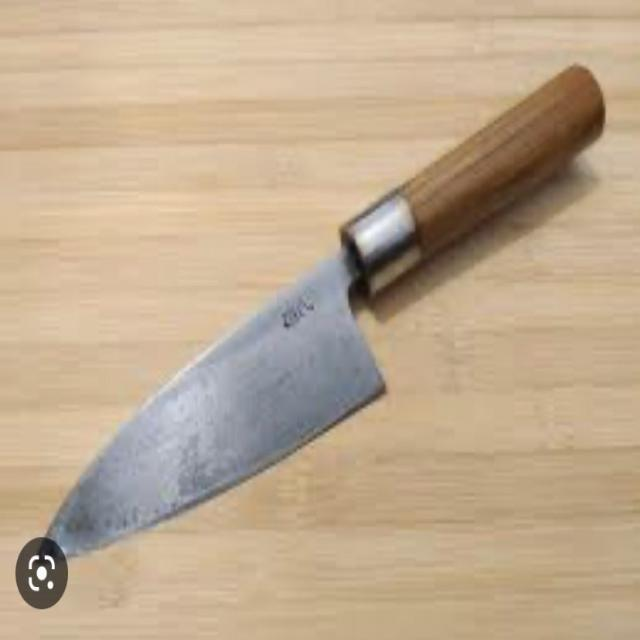Knife: (32, 44, 635, 589)
